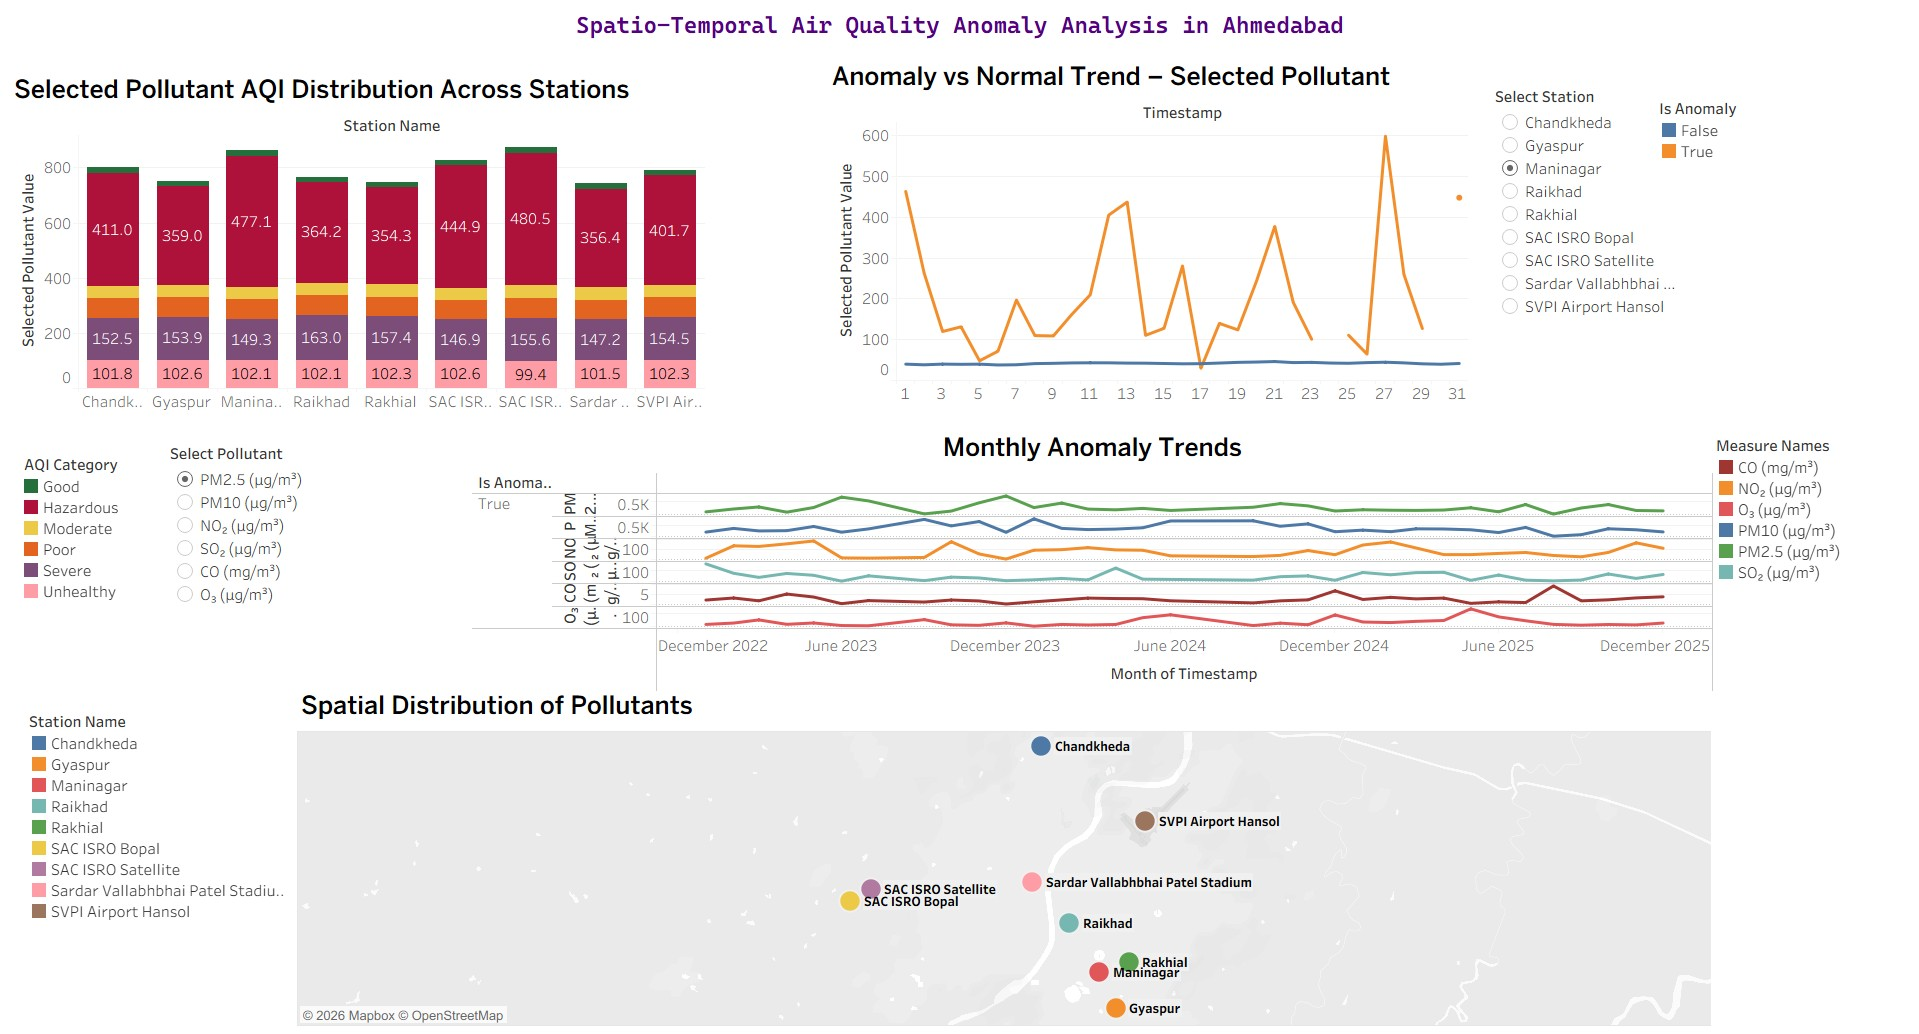

The page's visual inventory and layout, read from the dashboard file:
{"tool":"tableau","page":{"name":"Spatio-Temporal Air Quality Anomaly Analysis in Ahmedabad","canvas":[1000,1000],"units":"permille","ordinal":0},"visuals":[{"type":"title","box":[4.8,9.4,990.3,41.1]},{"type":"worksheet","title":"Anomaly vs Normal Trend – Selected Pollutant","mark":"Automatic","rows":["Calculation_1086351959887872"],"cols":["Timestamp"],"box":[431.5,54.9,333.1,333.3]},{"type":"worksheet","title":"Selected Pollutant AQI Distribution Across Stations","mark":"Automatic","rows":["Calculation_1086351959887872"],"cols":["Station_Name"],"box":[5.4,67.4,362.1,343.3]},{"type":"parameter","param":"[Parameters].[Parameter 2]","box":[778.5,82.4,96.6,293.4]},{"type":"legend","title":"Anomaly vs Normal Trend – Selected Pollutant","param":"[federated.1cwl34j0ud6to11ade1790w5oaf8].[none:Is_Anomaly:nk]","box":[864.2,93.6,67.6,127.3]},{"type":"worksheet","title":"Monthly Anomaly Trends","mark":"Automatic","rows":["Is_Anomaly","PM2.5 (µg/m³)","PM10 (µg/m³)","NO₂ (µg/m³)","SO₂ (µg/m³)","CO (mg/m³)","O₃ (µg/m³)"],"cols":["Timestamp"],"box":[245.6,410.7,646.4,253.4]},{"type":"legend","title":"Monthly Anomaly Trends","param":"[federated.1cwl34j0ud6to11ade1790w5oaf8].[:Measure Names]","box":[893.8,417,73,222.2]},{"type":"parameter","param":"[Parameters].[Parameter 1]","box":[88.7,424.5,89.3,223.5]},{"type":"legend","title":"Selected Pollutant AQI Distribution Across Stations","param":"[federated.1cwl34j0ud6to11ade1790w5oaf8].[none:Calculation_0961833028448257:nk]","box":[10.9,435.7,84.5,184.8]},{"type":"worksheet","title":"Spatial Distribution of Pollutants ","mark":"Automatic","rows":["Latitude"],"cols":["Longitude"],"box":[154.5,657.9,736.9,334.6]},{"type":"legend","title":"Spatial Distribution of Pollutants ","param":"[federated.1cwl34j0ud6to11ade1790w5oaf8].[none:Station_Name:nk]","box":[15.1,681.6,136.4,317.1]}]}

Visuals, with their boxes on the dashboard's canvas, which has no fixed pixel size, in thousandths of its width and height (x1, y1, x2, y2). These are canvas units, not pixel positions in the 1919x1034 screenshot, which may show the page scaled, cropped or inside an application window:
title: (left=5, top=9, right=995, bottom=50)
"Anomaly vs Normal Trend – Selected Pollutant" worksheet: (left=432, top=55, right=765, bottom=388)
"Selected Pollutant AQI Distribution Across Stations" worksheet: (left=5, top=67, right=368, bottom=411)
parameter: (left=778, top=82, right=875, bottom=376)
"Anomaly vs Normal Trend – Selected Pollutant" legend: (left=864, top=94, right=932, bottom=221)
"Monthly Anomaly Trends" worksheet: (left=246, top=411, right=892, bottom=664)
"Monthly Anomaly Trends" legend: (left=894, top=417, right=967, bottom=639)
parameter: (left=89, top=424, right=178, bottom=648)
"Selected Pollutant AQI Distribution Across Stations" legend: (left=11, top=436, right=95, bottom=620)
"Spatial Distribution of Pollutants " worksheet: (left=154, top=658, right=891, bottom=992)
"Spatial Distribution of Pollutants " legend: (left=15, top=682, right=152, bottom=999)
